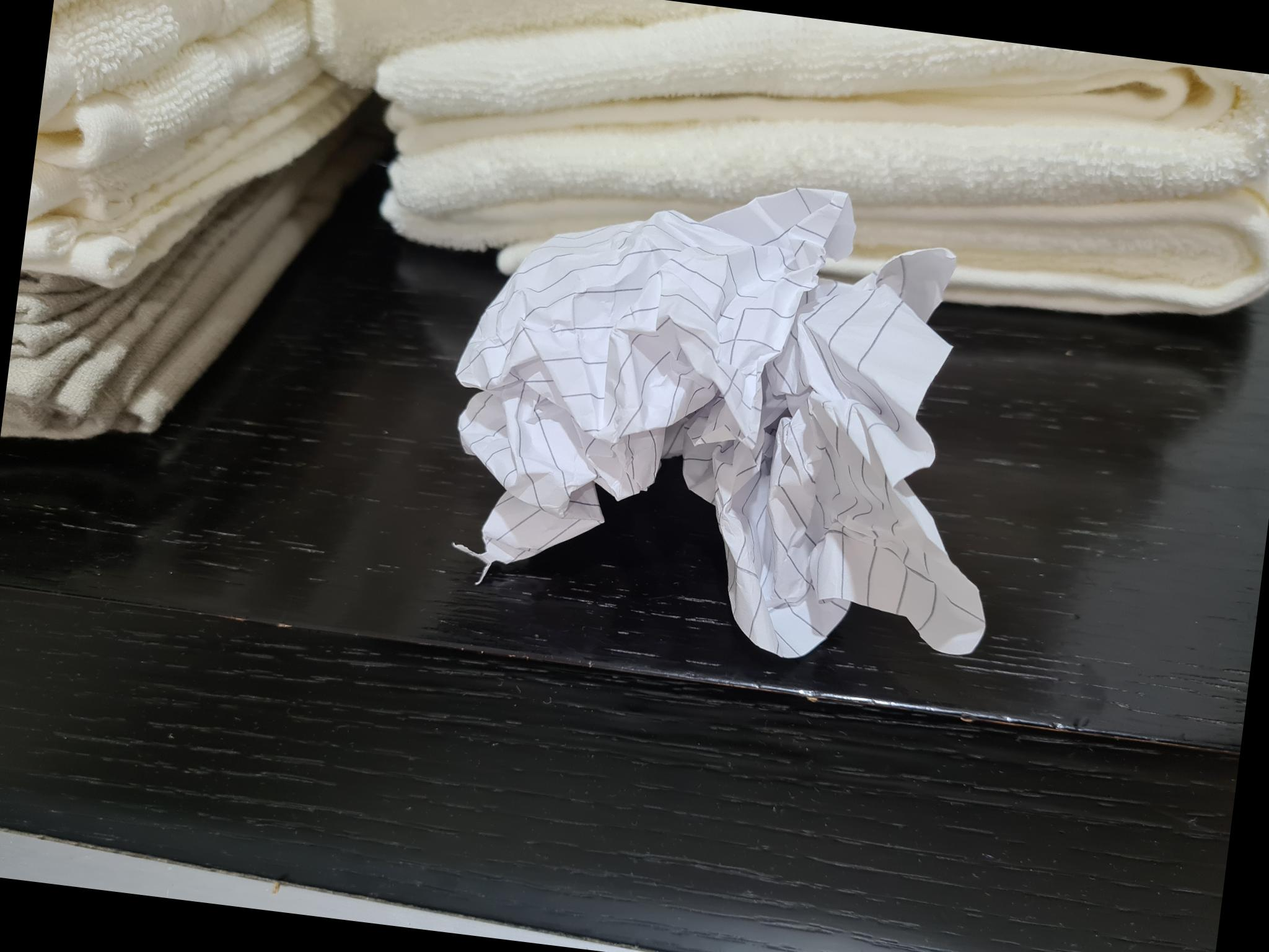Kertas: (458, 190, 983, 657)
